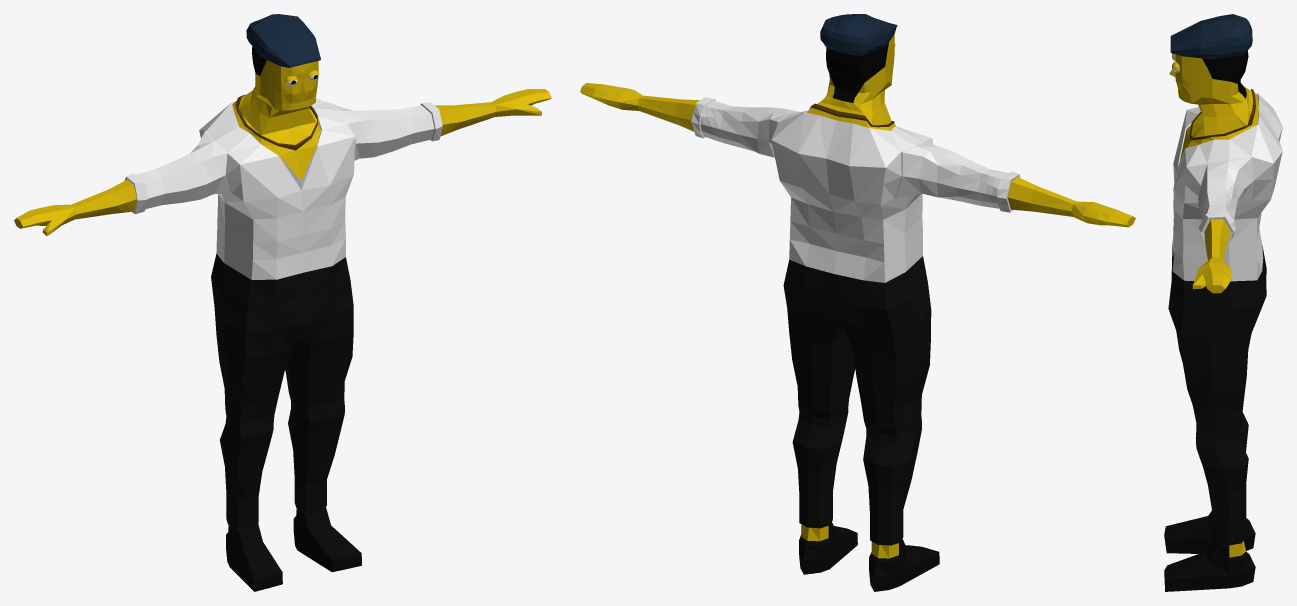
File: Rogerio.fbx
3 views of the same model, side by side, from view 1: azimuth 30°, elevation 25°; view 2: azimuth 150°, elevation 25°; view 3: azimuth 270°, elevation 25° (orthographic). The views are drawn at different scales.
Parts seen in each view (by area): view 1: Rogerio; view 2: Rogerio; view 3: Rogerio.
Boxes of the visible parts, x1,y1,x2,y2 form: Rogerio: [14, 14, 551, 591]; Rogerio: [580, 14, 1135, 591]; Rogerio: [1164, 14, 1282, 591].
Bounding box in the file's own units: 1.79 × 1.74 × 0.3428.
